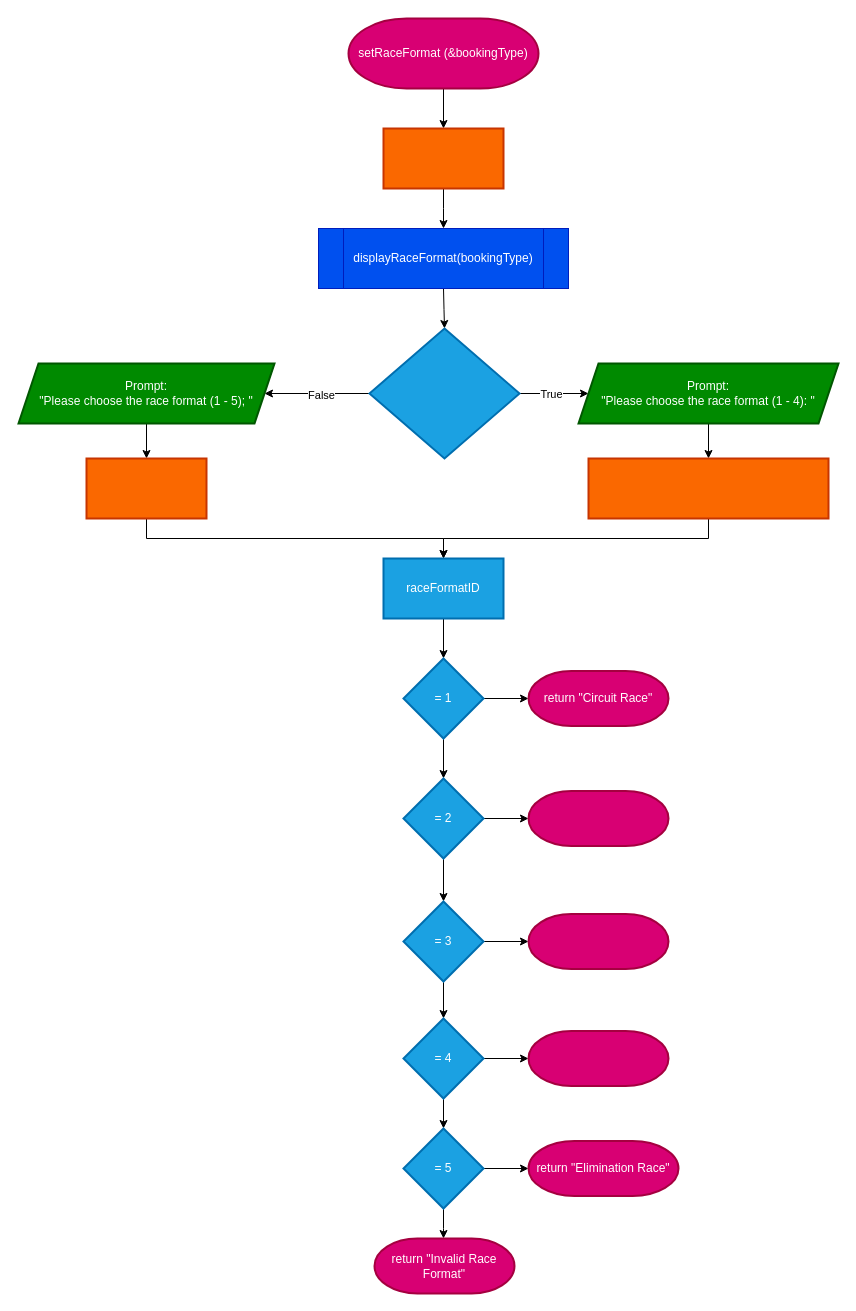
The diagram is 856 pixels wide and 1311 high, and some of its shapes have lost their labels. The shapes that lost their labels are listed below. From the top down, each one's box as (x1, y1, x2, y2) in pixels, then its label:
(382, 127, 504, 189): Declare: raceFormatID, raceFormat
(368, 327, 520, 459): bookingType == "Solo"
(85, 457, 207, 519): Input: raceFormatID
(587, 457, 829, 519): raceFormatID = getValidIntegerInput("race format", 1, 4)
(527, 790, 669, 846): return "Sprint Race"
(527, 912, 669, 970): return "Time Trial"
(527, 1030, 669, 1086): return "Drag Race"
